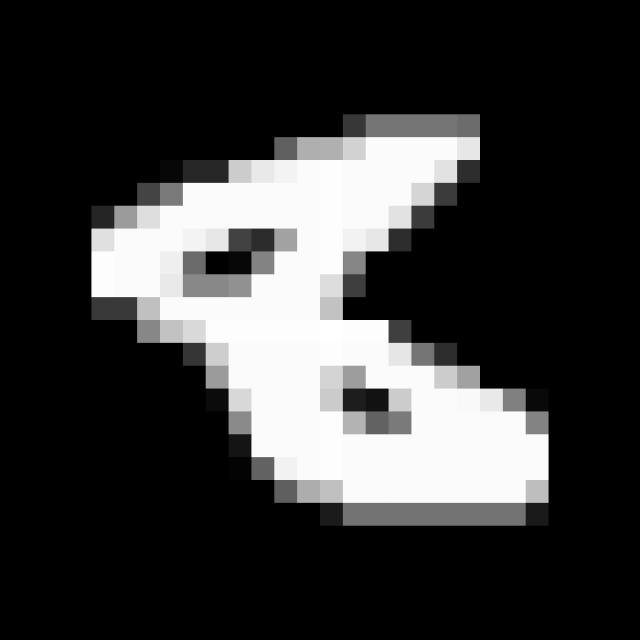eight -8-: (87, 105, 560, 527)
